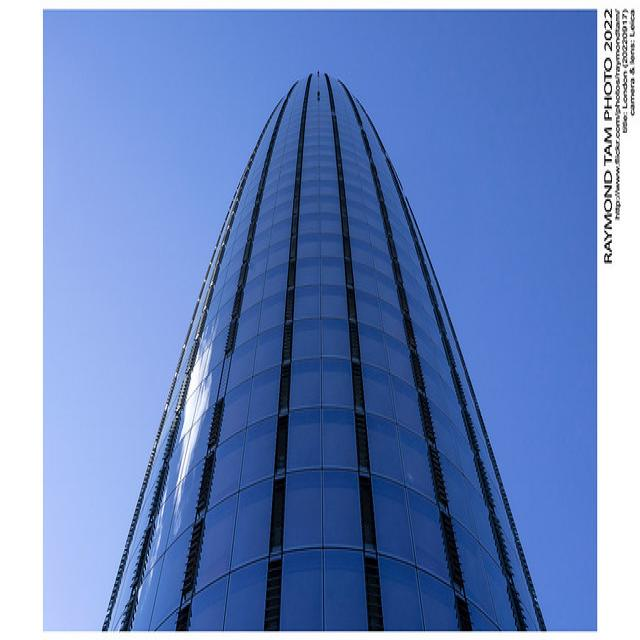Normal_building: (87, 64, 549, 632)
